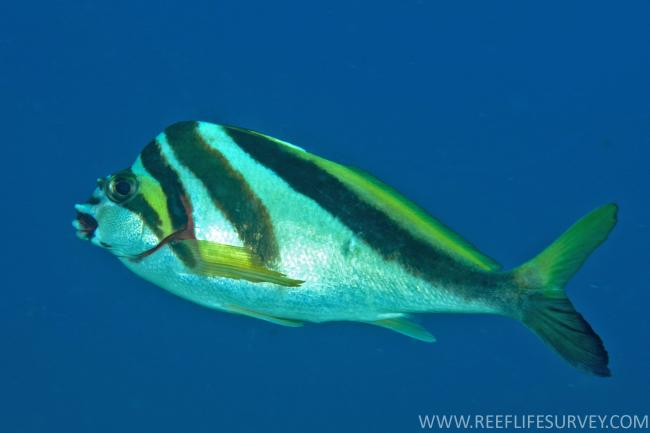fish: (71, 121, 615, 380)
